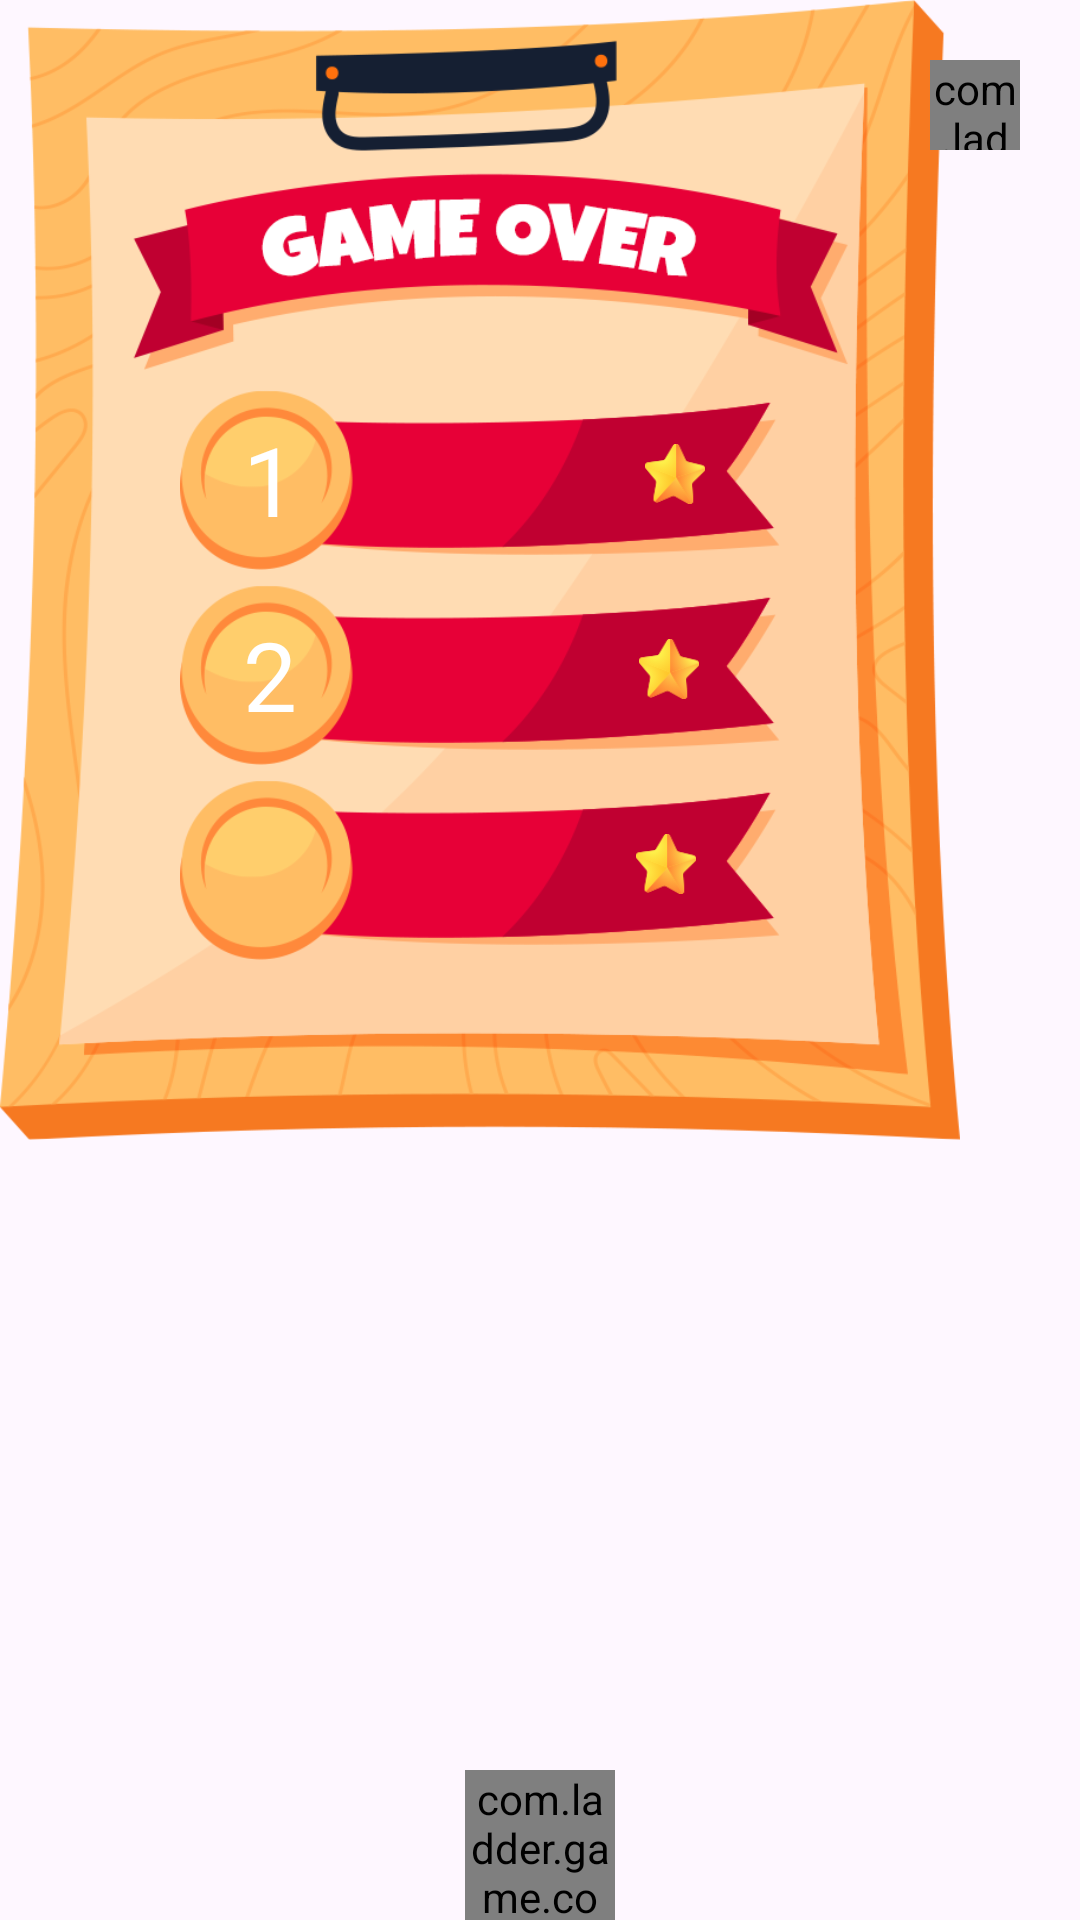

Where icons sit on this 1080 x 1920 app screen, as detection(x1, y1, x2, y2):
star: detection(645, 444, 705, 504), detection(639, 639, 699, 699), detection(636, 834, 696, 894)
